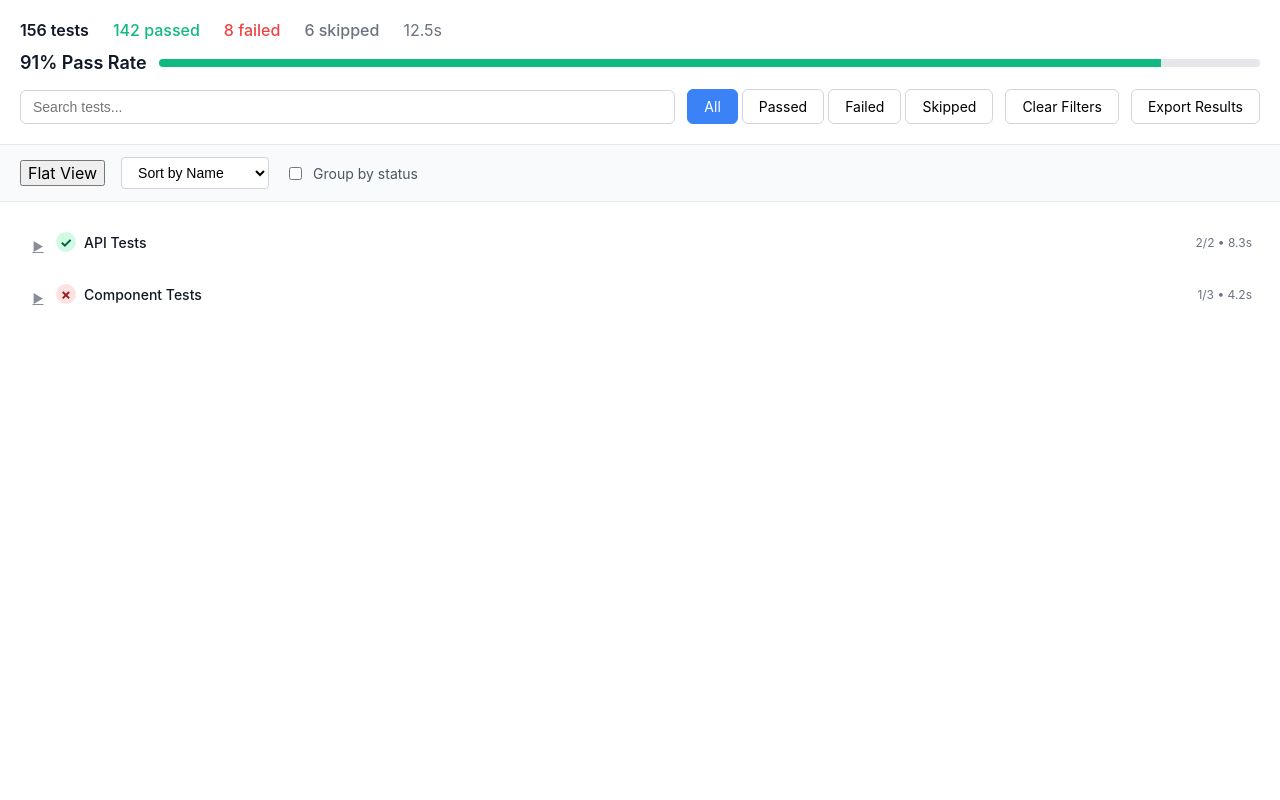
Scenario: TestResultsView › View Options › toggles between tree and flat view
Note: Switch to flat view
Click the button "Flat View": (63, 173) [20, 160, 105, 186]
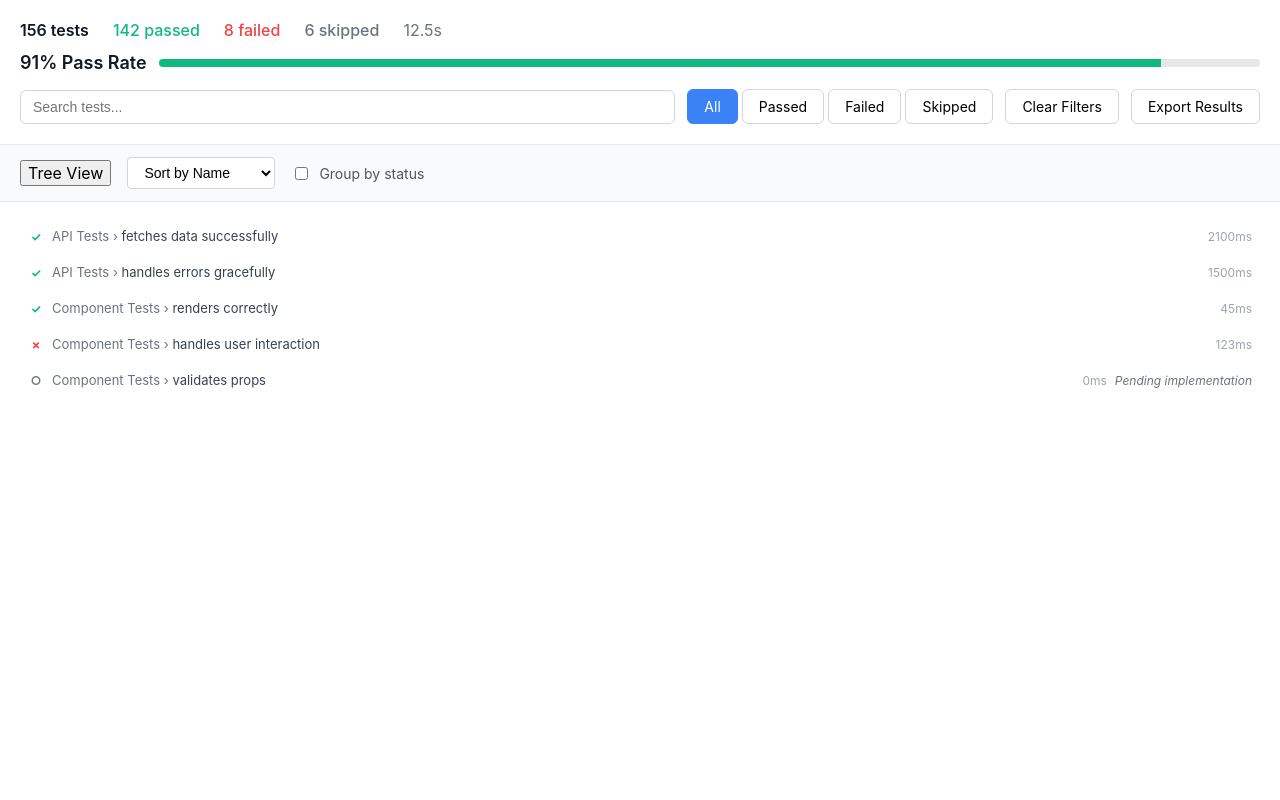
Expected: the element with test id "flat-view" is shown
